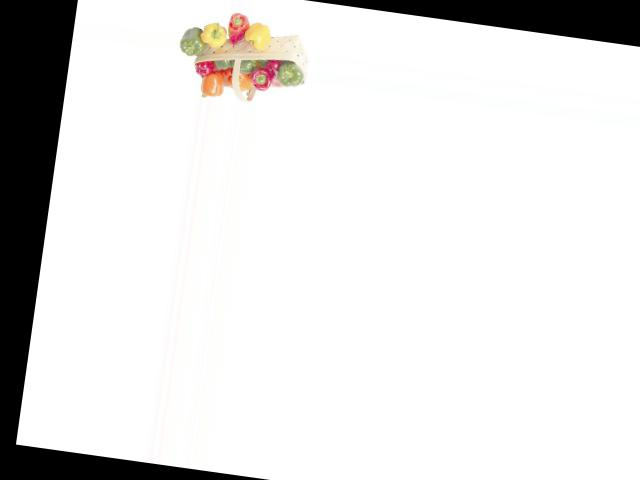bell_pepper: (273, 61, 304, 89)
